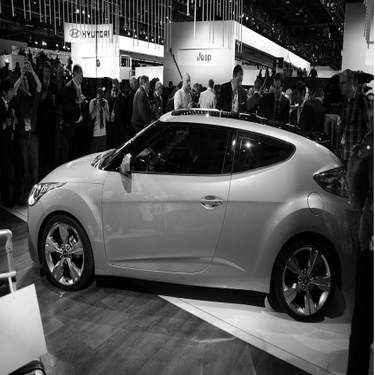car: (24, 98, 350, 326)
